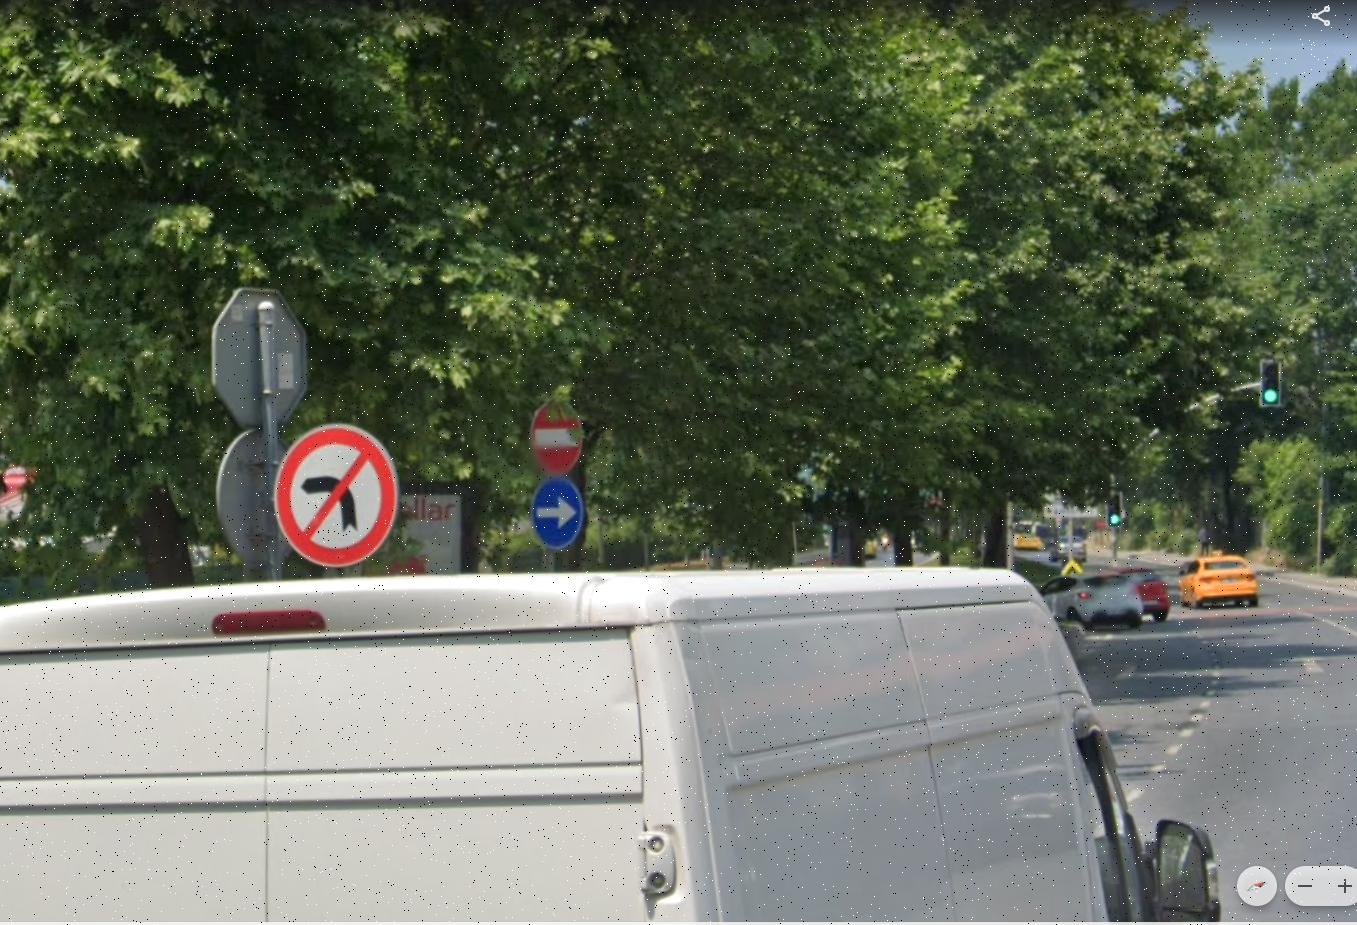leftturnsareforbidden: (287, 433, 392, 559)
turnright: (532, 487, 585, 546)
